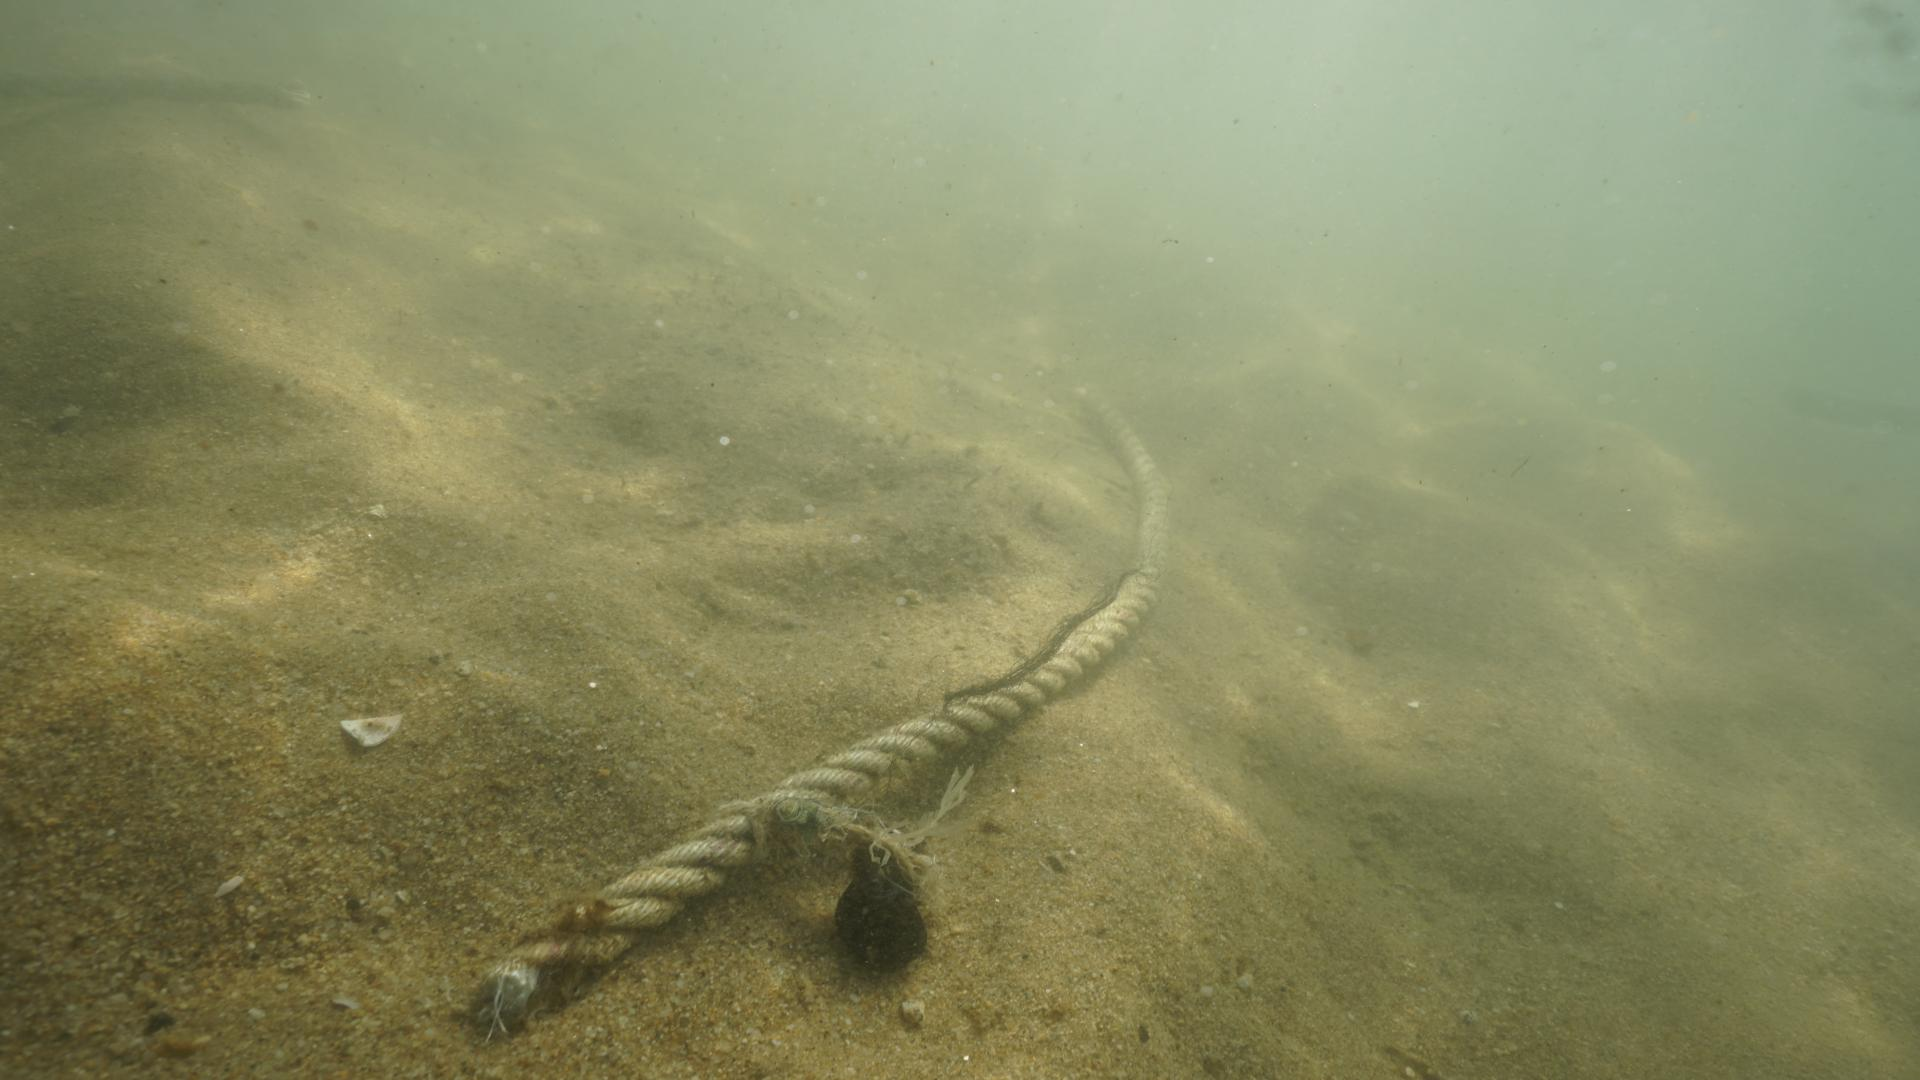rope: (458, 385, 1170, 1036)
